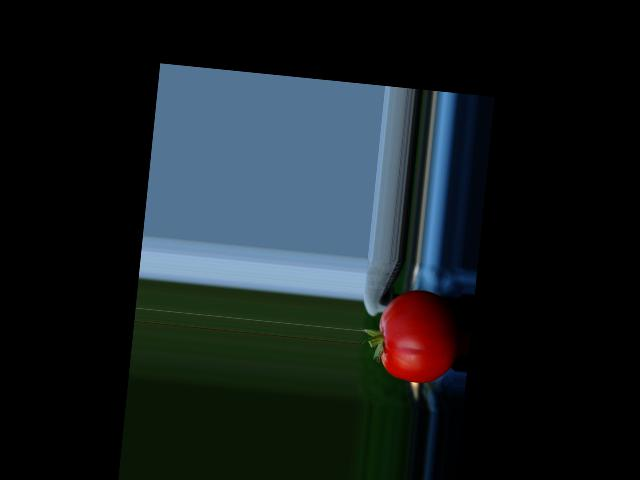tomato: (374, 286, 463, 386)
